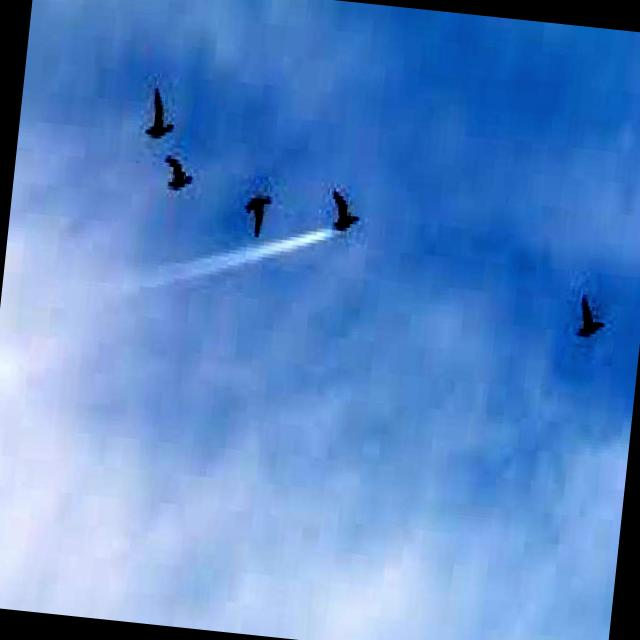bird: (130, 77, 190, 146), (566, 283, 618, 348), (157, 144, 203, 201), (326, 178, 368, 237), (240, 182, 274, 238)
